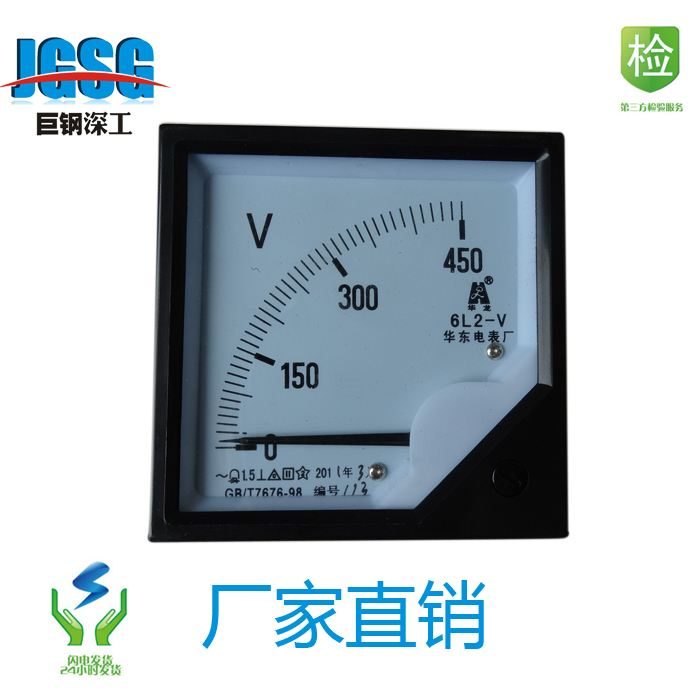pointer: (175, 146, 545, 520)
